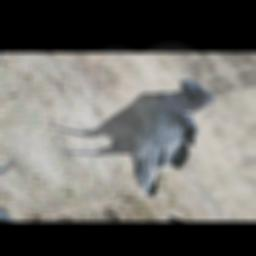Crow: (27, 75, 256, 207)
